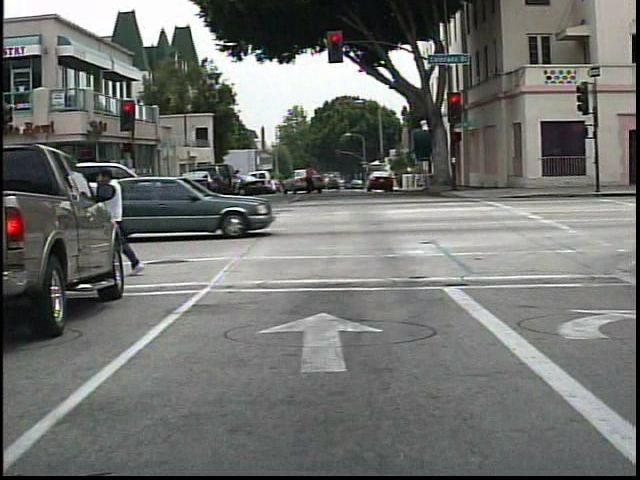person: (96, 166, 150, 278), (297, 160, 320, 194)
